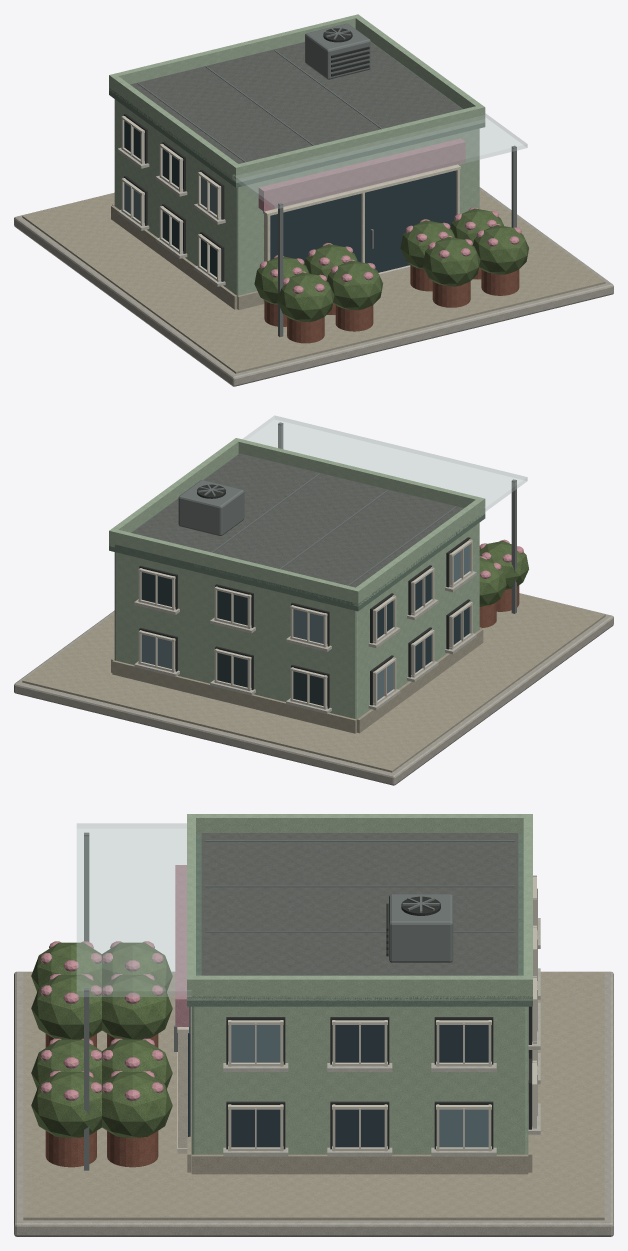
The model's file is EXP_SHOP_FLORIST.glb.
The picture shows the model from 3 angles, top to bottom: view 1: azimuth 30°, elevation 25°; view 2: azimuth 150°, elevation 25°; view 3: azimuth 270°, elevation 25°; orthographic projection. The views are drawn at different scales.
Visible parts, largest first — view 1: EXP_SHOP_FLORIST_Visual; view 2: EXP_SHOP_FLORIST_Visual; view 3: EXP_SHOP_FLORIST_Visual.
Part boxes in pixels (<box>): EXP_SHOP_FLORIST_Visual: <box>14,14,613,386</box>; EXP_SHOP_FLORIST_Visual: <box>14,415,613,785</box>; EXP_SHOP_FLORIST_Visual: <box>14,814,613,1236</box>.
Size of what is drawn, in the model's own units: 3.92 by 1.8 by 3.92.
17 materials, 11 textured.
